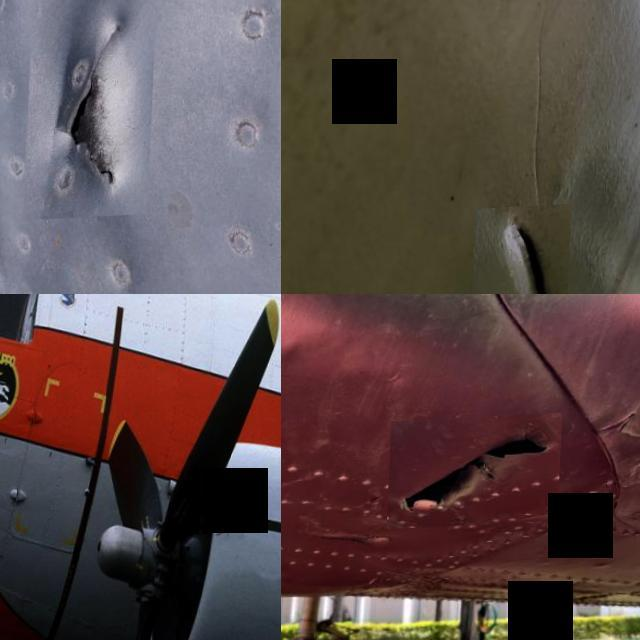Crack: (27, 0, 159, 223), (390, 417, 564, 532), (474, 207, 574, 294), (217, 530, 234, 548)
Dent: (281, 331, 310, 383)
